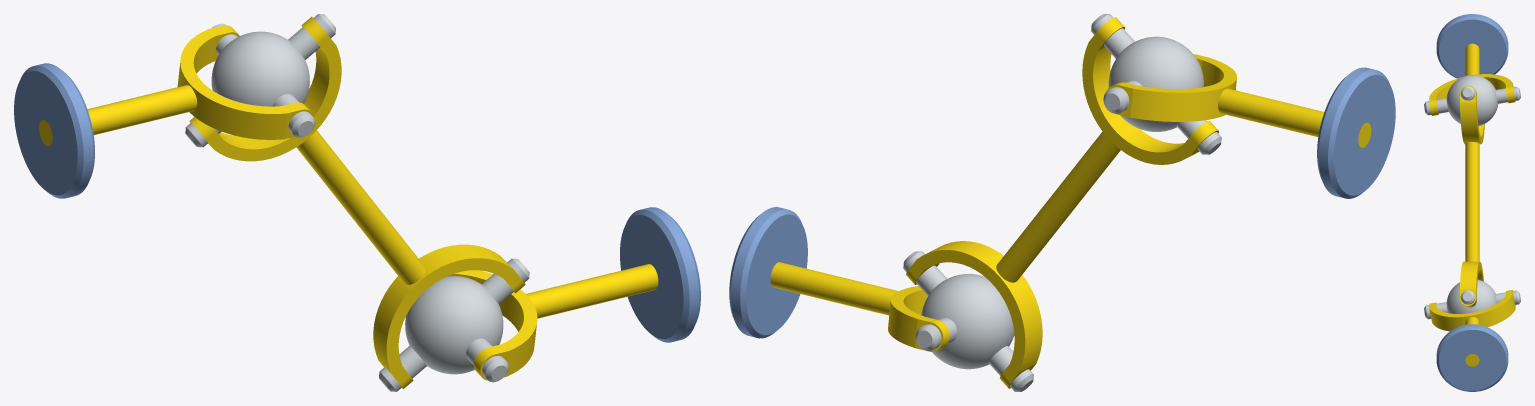
Rendered from HookejointAsm.gltf.
3 renders of one model, left to right at view 1: azimuth 30°, elevation 25°; view 2: azimuth 150°, elevation 25°; view 3: azimuth 270°, elevation 25°, orthographic. The views are drawn at different scales.
Visible parts, largest first — view 1: yoke (×4), spidersphere (×2), disk (×2); view 2: yoke (×4), disk (×2), spidersphere (×2); view 3: disk (×2), yoke (×4), spidersphere (×2).
Boxes of the visible parts, x1,y1,x2,y2 form: yoke (×4): (39, 16, 658, 389); spidersphere (×2): (185, 14, 529, 391); disk (×2): (14, 63, 700, 342); yoke (×4): (770, 17, 1371, 388); disk (×2): (729, 67, 1395, 338); spidersphere (×2): (903, 14, 1221, 391); disk (×2): (1436, 14, 1508, 391); yoke (×4): (1429, 43, 1515, 366); spidersphere (×2): (1424, 75, 1520, 319).
Bounding box in the file's own units: 0.644 × 0.41 × 0.1642.
